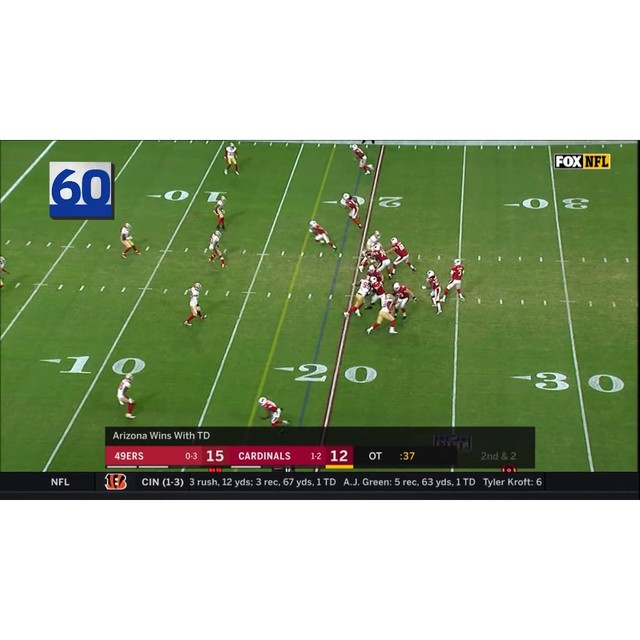american-football-player: (365, 294, 398, 334), (343, 276, 374, 318), (182, 281, 207, 325), (443, 258, 466, 302), (389, 237, 416, 273), (258, 397, 289, 428), (392, 282, 417, 320), (424, 270, 444, 315), (116, 374, 136, 419), (309, 220, 336, 251), (340, 192, 362, 229), (372, 245, 395, 279), (207, 229, 227, 268), (119, 222, 141, 257), (350, 143, 372, 176), (368, 277, 387, 309), (224, 142, 240, 175), (213, 194, 227, 230)
